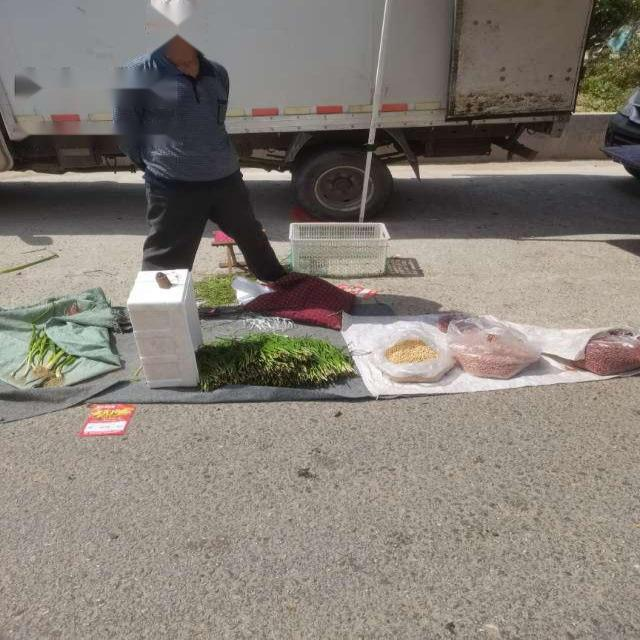fixed_stall: (3, 215, 636, 422)
